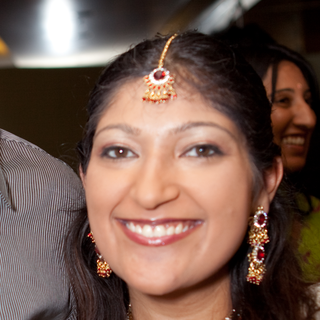eye: (178, 140, 226, 163), (97, 141, 140, 164)
